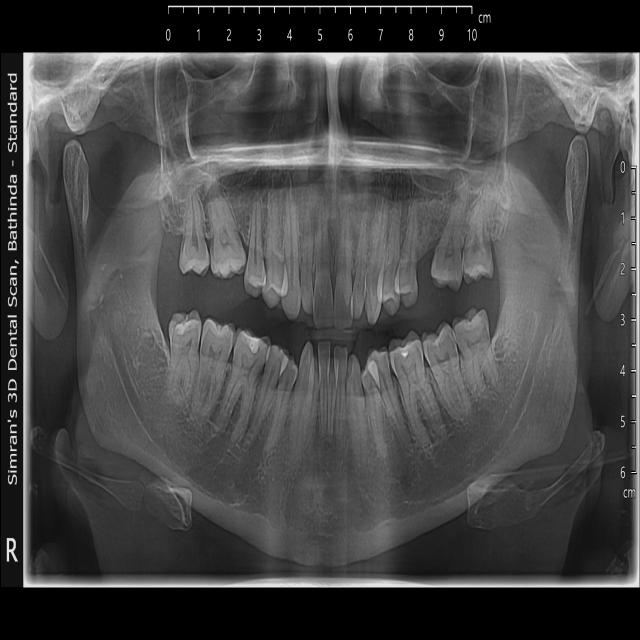Filling: (232, 329, 267, 372), (389, 333, 423, 377), (455, 310, 490, 351), (460, 245, 492, 281), (201, 320, 231, 357), (169, 313, 198, 348)
Missing teeth: (419, 231, 436, 272)
